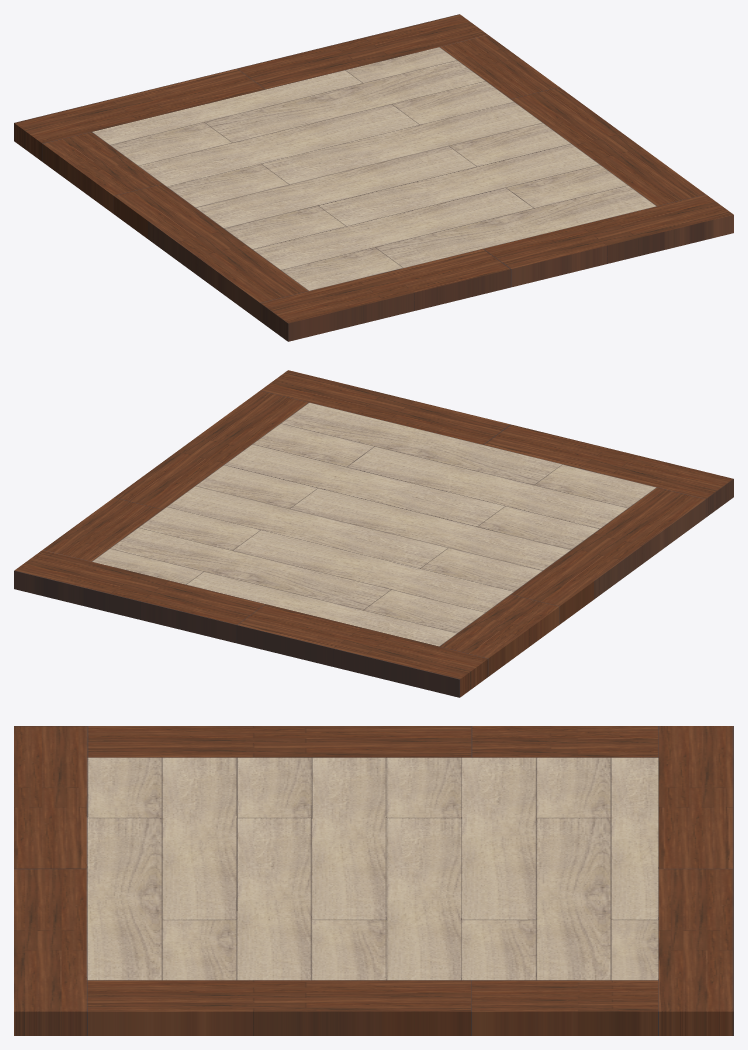
3 views of the same model, one above another, from view 1: azimuth 30°, elevation 25°; view 2: azimuth 150°, elevation 25°; view 3: azimuth 270°, elevation 25° (orthographic). The views are drawn at different scales.
Visible parts, largest first — view 1: Floor_8TJ_8TE; view 2: Floor_8TJ_8TE; view 3: Floor_8TJ_8TE.
Boxes of the visible parts, bbox=[...] form: Floor_8TJ_8TE: bbox=[14, 14, 733, 341]; Floor_8TJ_8TE: bbox=[14, 370, 733, 697]; Floor_8TJ_8TE: bbox=[14, 726, 733, 1035].
Bounding box in the file's own units: 1.61 × 0.0632 × 1.72.
Materials: 1 (1 with a texture image).
